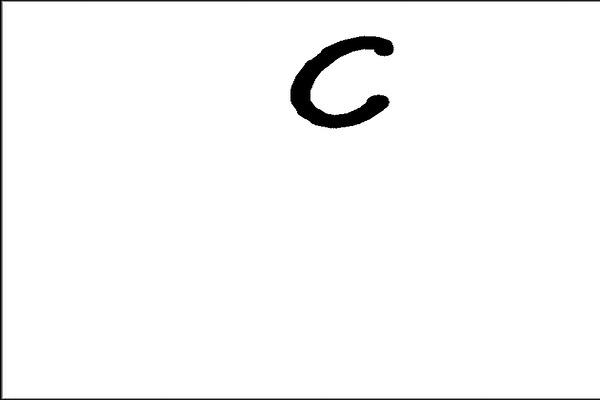C: (283, 30, 397, 132)
